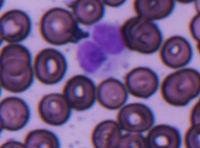M: (76, 20, 127, 76)
